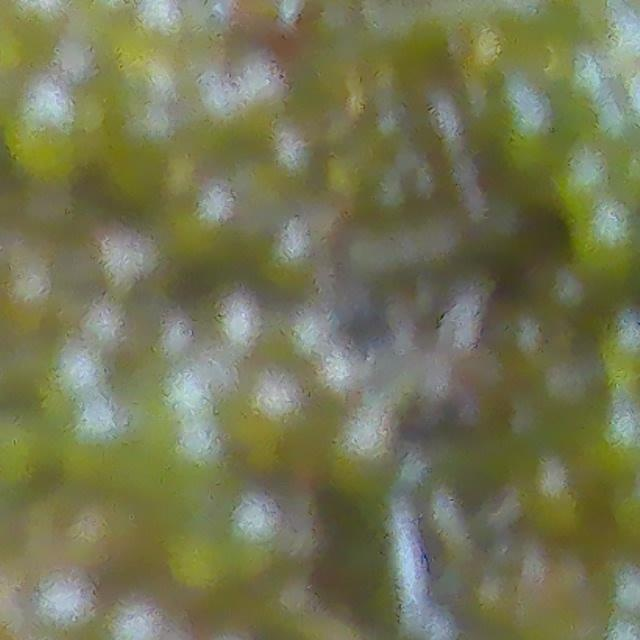SeaGrape: (167, 527, 237, 595)
